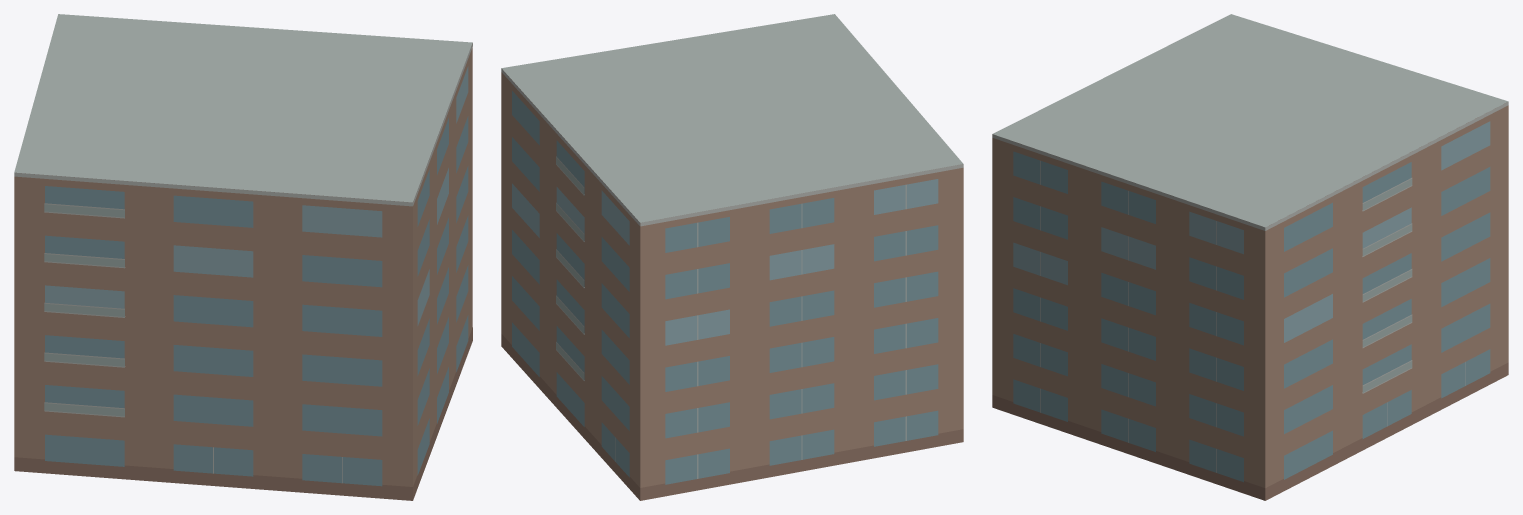
Rendered from survey-upis-32991328.glb.
The picture shows the model from 3 angles, left to right: view 1: azimuth 30°, elevation 25°; view 2: azimuth 150°, elevation 25°; view 3: azimuth 270°, elevation 25°; orthographic projection. The views are drawn at different scales.
Visible parts, largest first — view 1: survey-upis-32991328.tmp; view 2: survey-upis-32991328.tmp; view 3: survey-upis-32991328.tmp.
Boxes of the visible parts, left/top/right/bottom form: survey-upis-32991328.tmp: left=14, top=14, right=472, bottom=500; survey-upis-32991328.tmp: left=501, top=14, right=963, bottom=500; survey-upis-32991328.tmp: left=992, top=14, right=1508, bottom=500.
Size of the model in its own units: 30.64 by 18.3 by 31.33.
